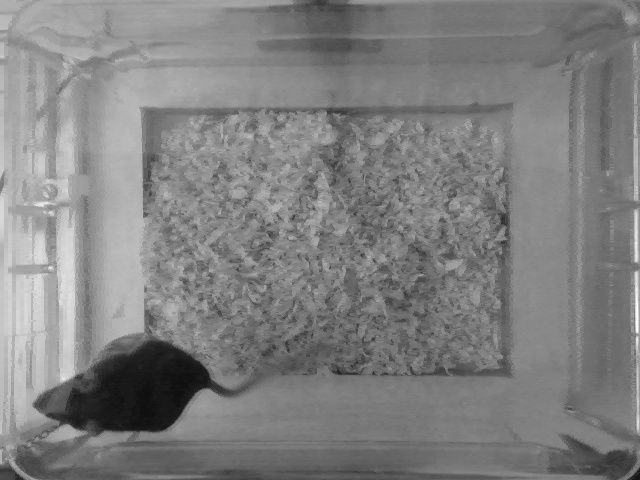mice: (25, 340, 261, 442)
